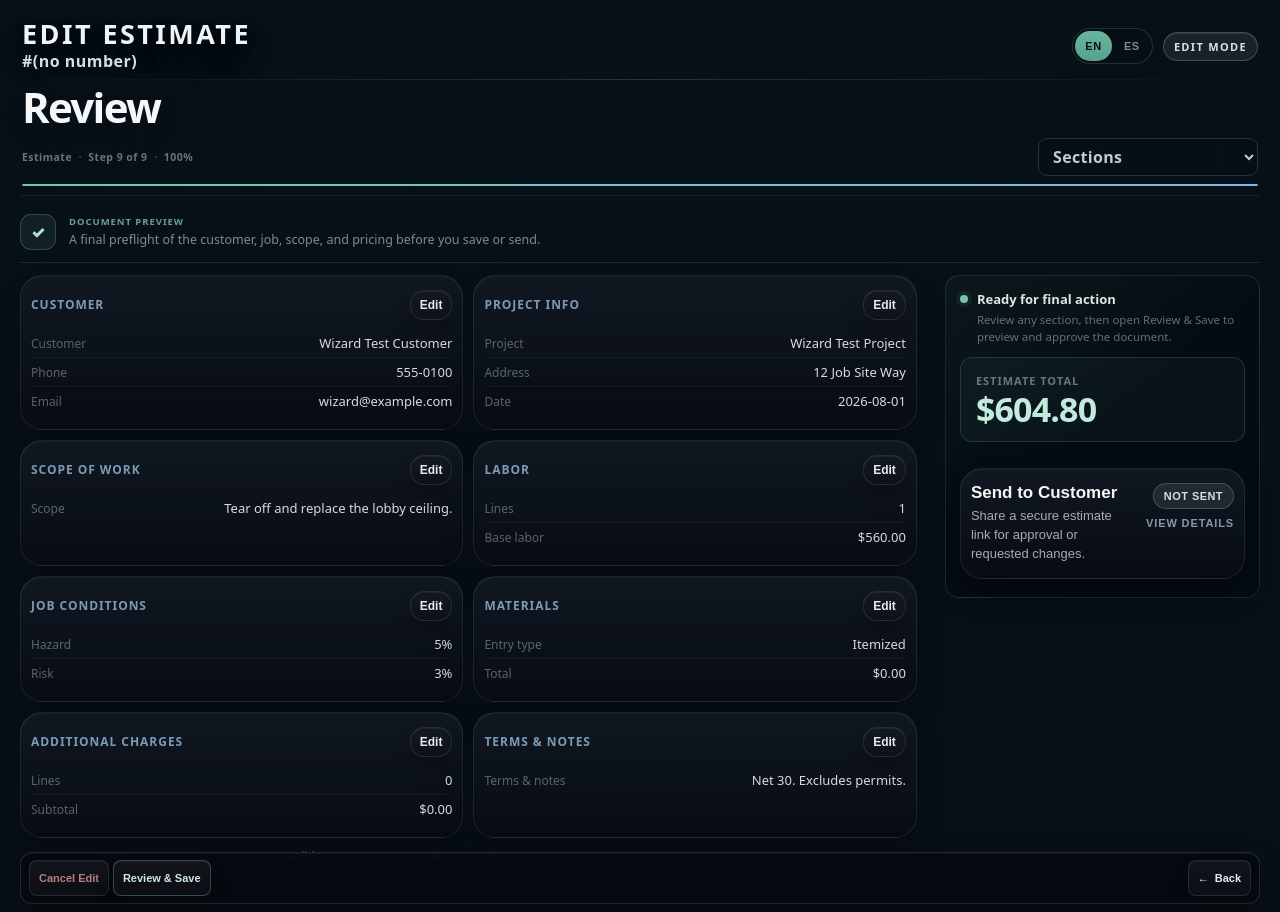
Test case: builder wizard initial presentation › saved-edit Review entry occurs once and does not override later navigation
Click the button with aria-label "Edit — Labor". click: {"x": 885, "y": 470}
box: [863,455,906,485]
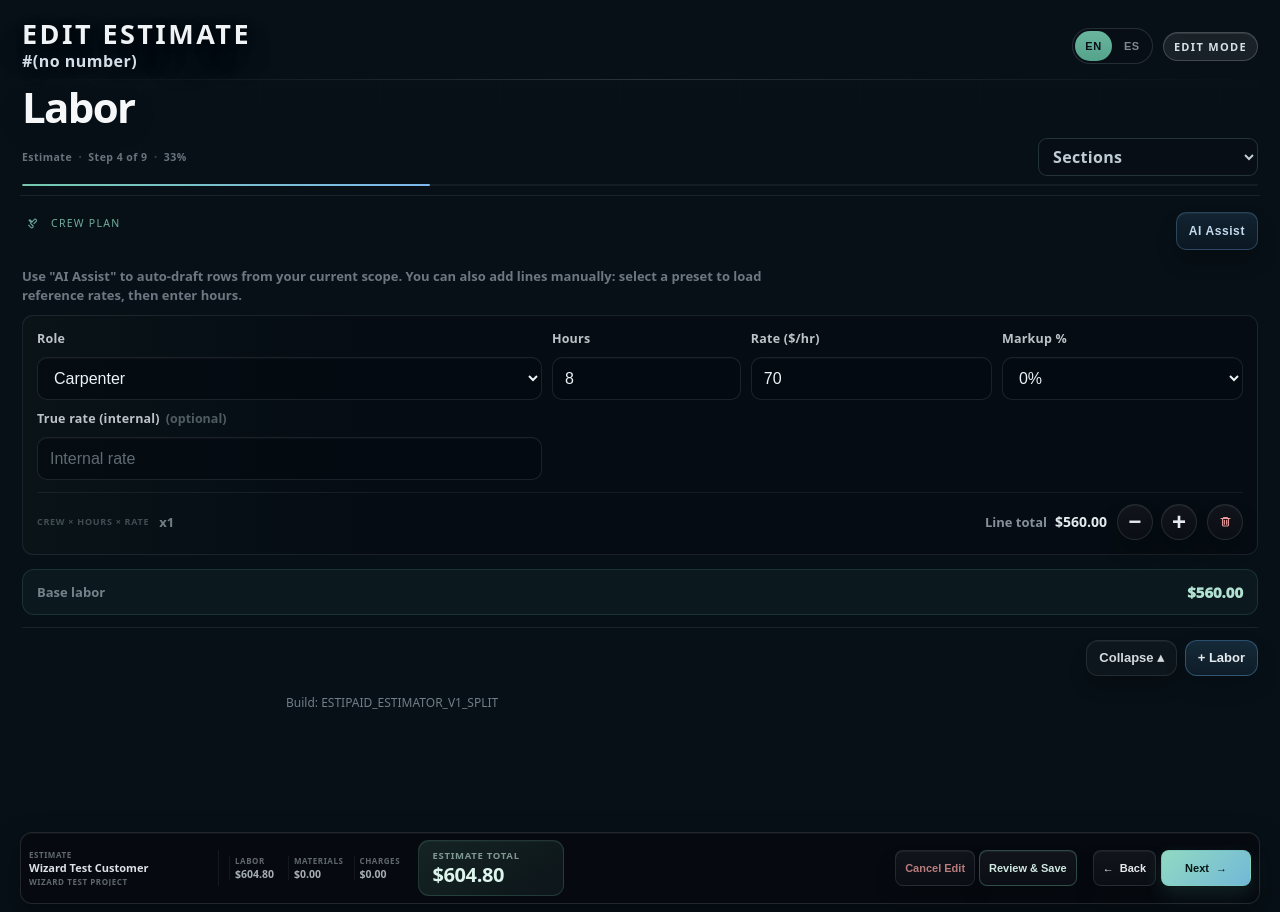
Expected: the 1st field showing "8" is shown, [552,357,741,400]
